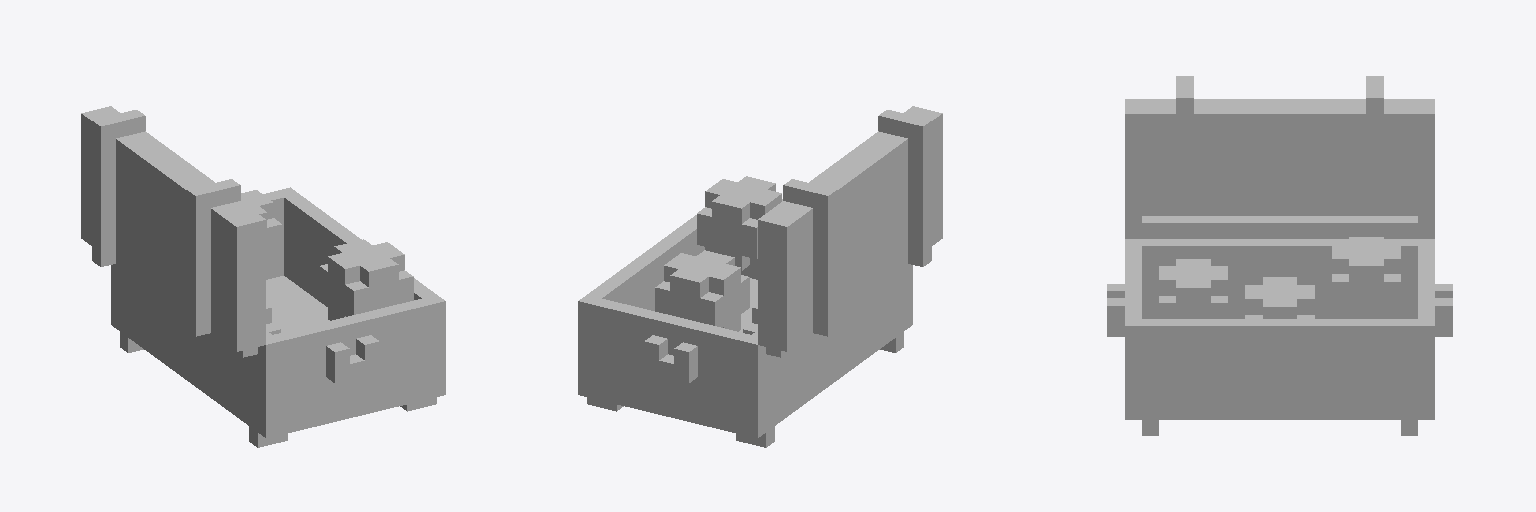
File: Package 01 Necro Dungeon-37.obj
3 views of the same model, side by side, from view 1: azimuth 30°, elevation 25°; view 2: azimuth 150°, elevation 25°; view 3: azimuth 270°, elevation 25° (orthographic).
Visible parts, largest first — view 1: object 1; view 2: object 1; view 3: object 1.
Boxes of the visible parts, x1=… form: object 1: x1=81, y1=106, x2=445, y2=447; object 1: x1=578, y1=106, x2=942, y2=447; object 1: x1=1107, y1=76, x2=1452, y2=435.
Size of the model in its own units: 1.5 by 1.6 by 2.